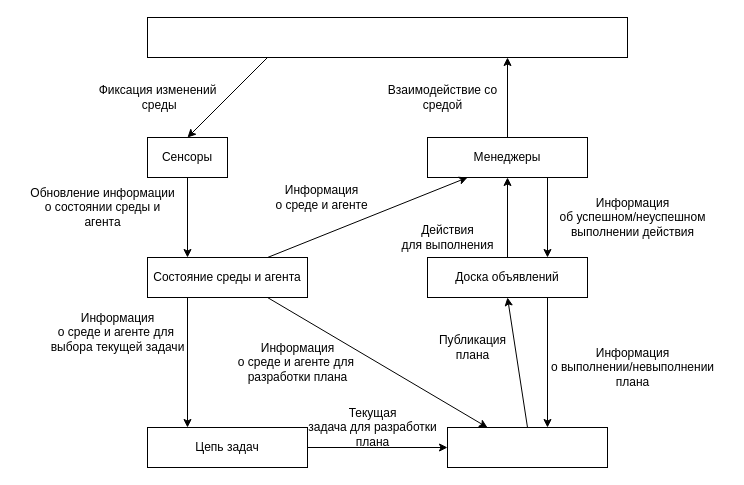
Some shapes in this 744 by 485 pixel diagram are drawn without their labels. Here are the shapes that lost their labels. From the top down, the centre of each, then its label:
At pixel 387 37: "Среда".
At pixel 527 447: "Планировщик".
